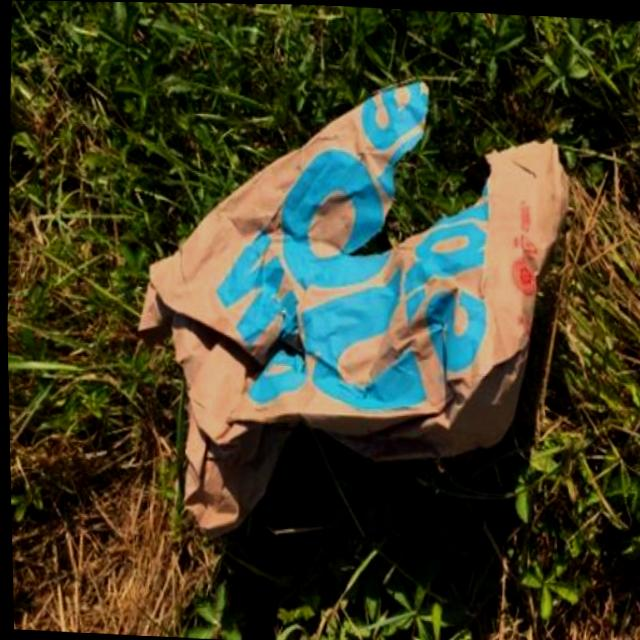Paper: (122, 59, 582, 563)
